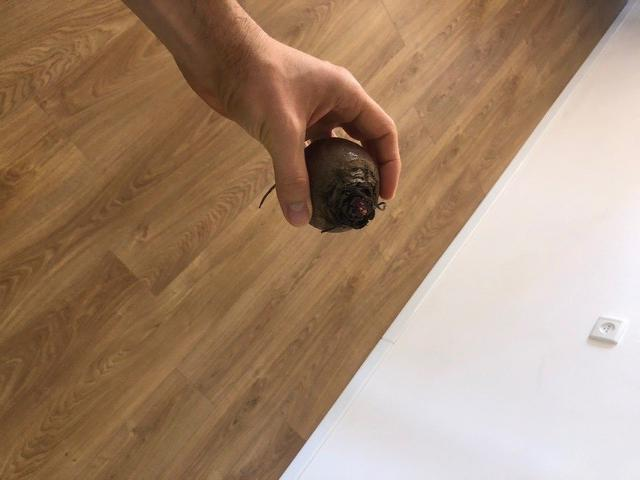beet: (259, 138, 383, 233)
